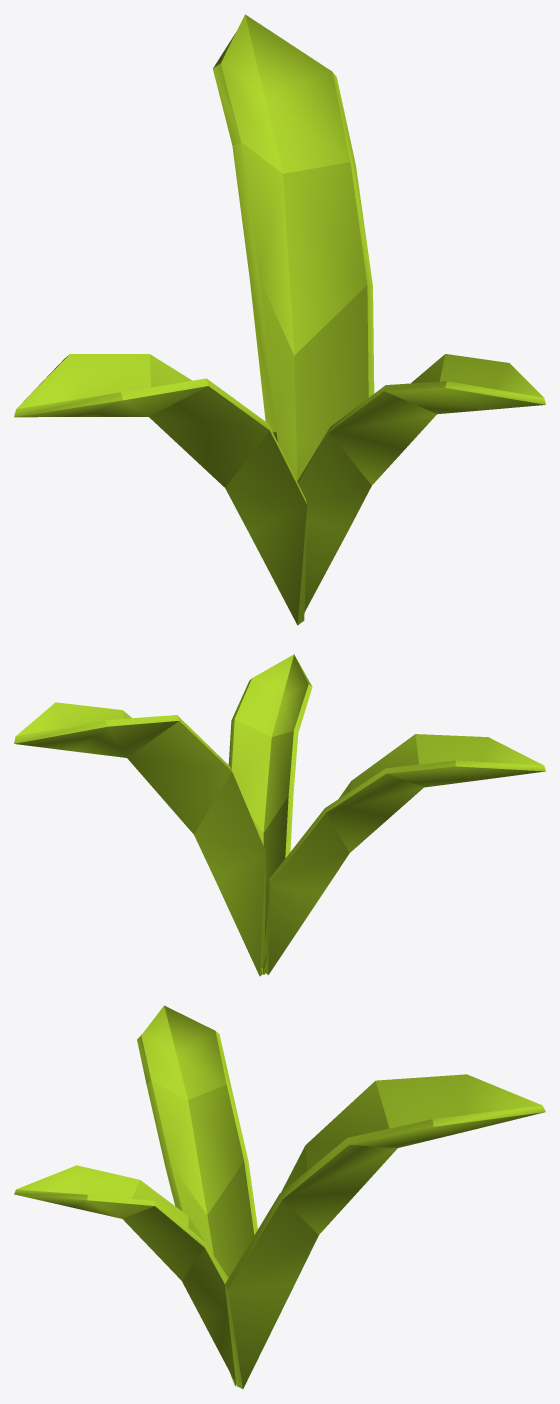
The model's file is P_Grass.fbx.
3 views of the same model, one above another, from view 1: azimuth 30°, elevation 25°; view 2: azimuth 150°, elevation 25°; view 3: azimuth 270°, elevation 25° (orthographic). The views are drawn at different scales.
Parts seen in each view (by area): view 1: Leaf.007; view 2: Leaf.007; view 3: Leaf.007.
Part boxes in pixels (bbox=[...]): Leaf.007: bbox=[14, 14, 545, 625]; Leaf.007: bbox=[14, 654, 545, 976]; Leaf.007: bbox=[14, 1005, 545, 1389].
Bounding box in the file's own units: 21.51 × 18.08 × 25.65.
